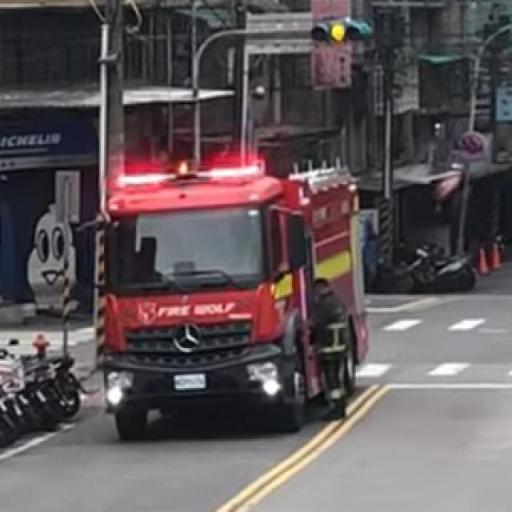fire truck: (87, 142, 378, 447)
